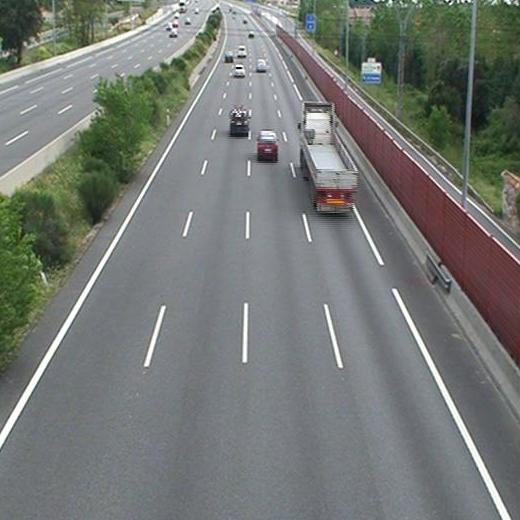car: (257, 132, 279, 158), (230, 113, 247, 133), (233, 66, 244, 77), (236, 46, 247, 56), (256, 60, 266, 70), (224, 53, 234, 62)
truck: (300, 102, 356, 213)
